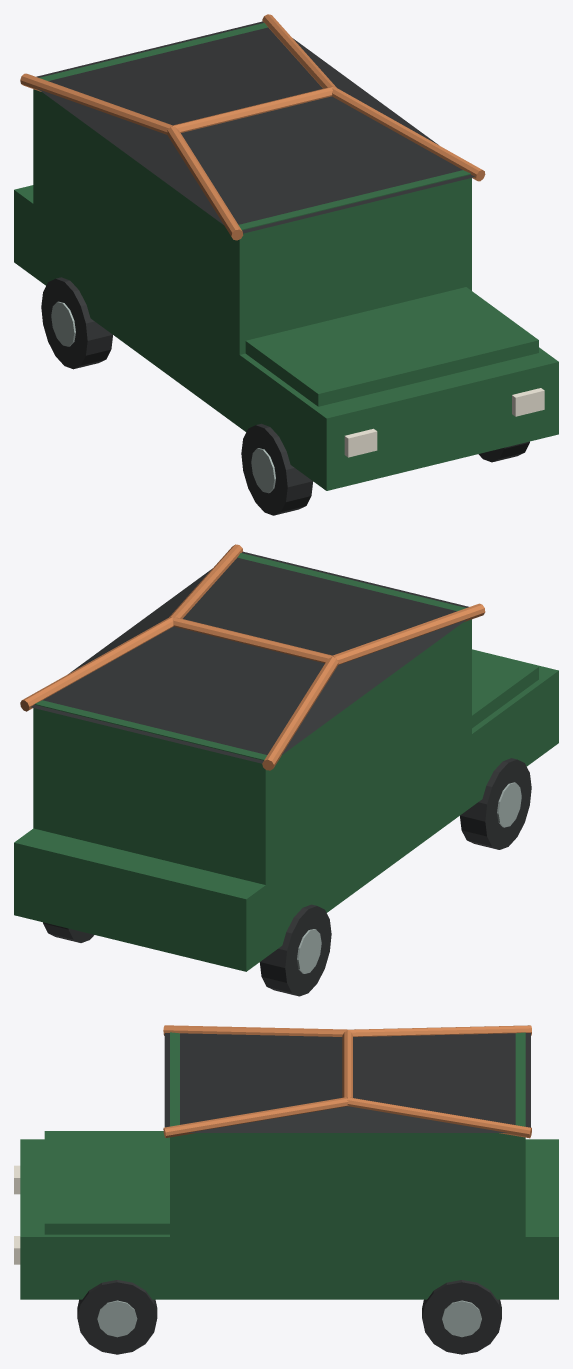
Rendered from 016_utility_jeep.glb.
3 views of the same model, one above another, from view 1: azimuth 30°, elevation 25°; view 2: azimuth 150°, elevation 25°; view 3: azimuth 270°, elevation 25° (orthographic). The views are drawn at different scales.
Visible parts, largest first — view 1: Utility jeep; view 2: Utility jeep; view 3: Utility jeep.
Boxes of the visible parts, x1,y1,x2,y2 form: Utility jeep: (14, 14, 558, 515); Utility jeep: (14, 544, 558, 996); Utility jeep: (14, 1025, 558, 1354).
Bounding box in the file's own units: 2.09 × 2.18 × 4.5.
